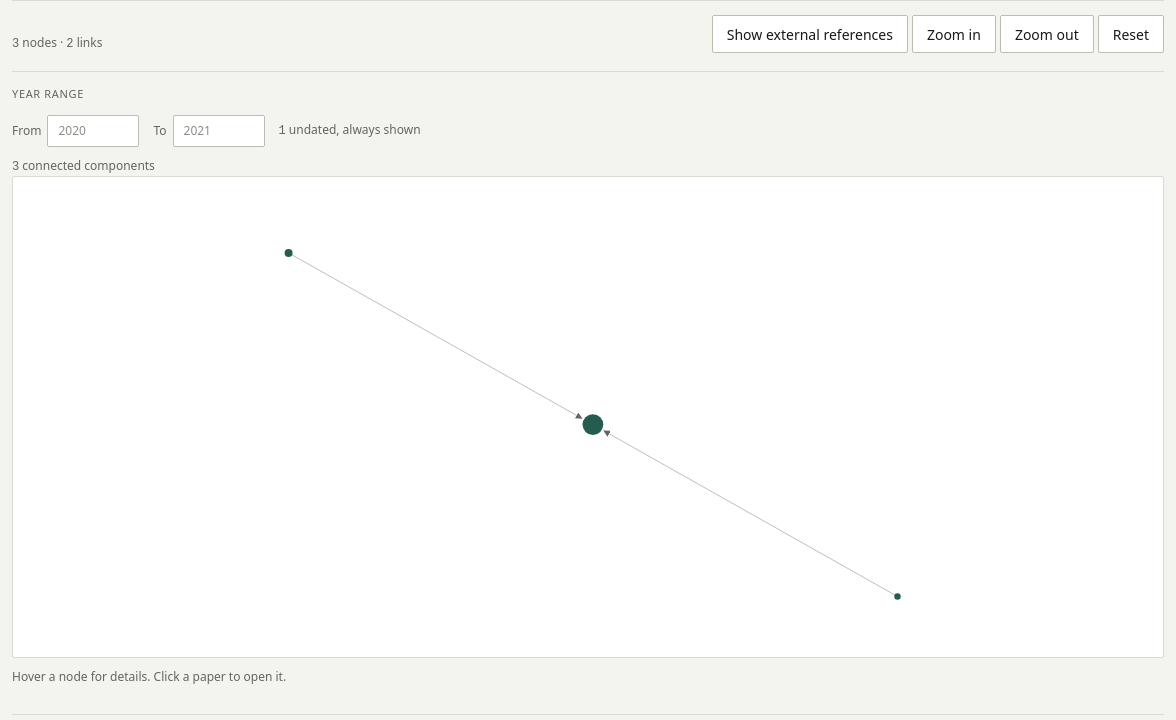
citation graph ranked views › filters by year, keeps undated nodes, and says so
Expected: the text "1 undated, always shown" is shown, [278,121,421,138]
In the number field labelled "From": (93, 130) [47,114,139,146], type "2021"
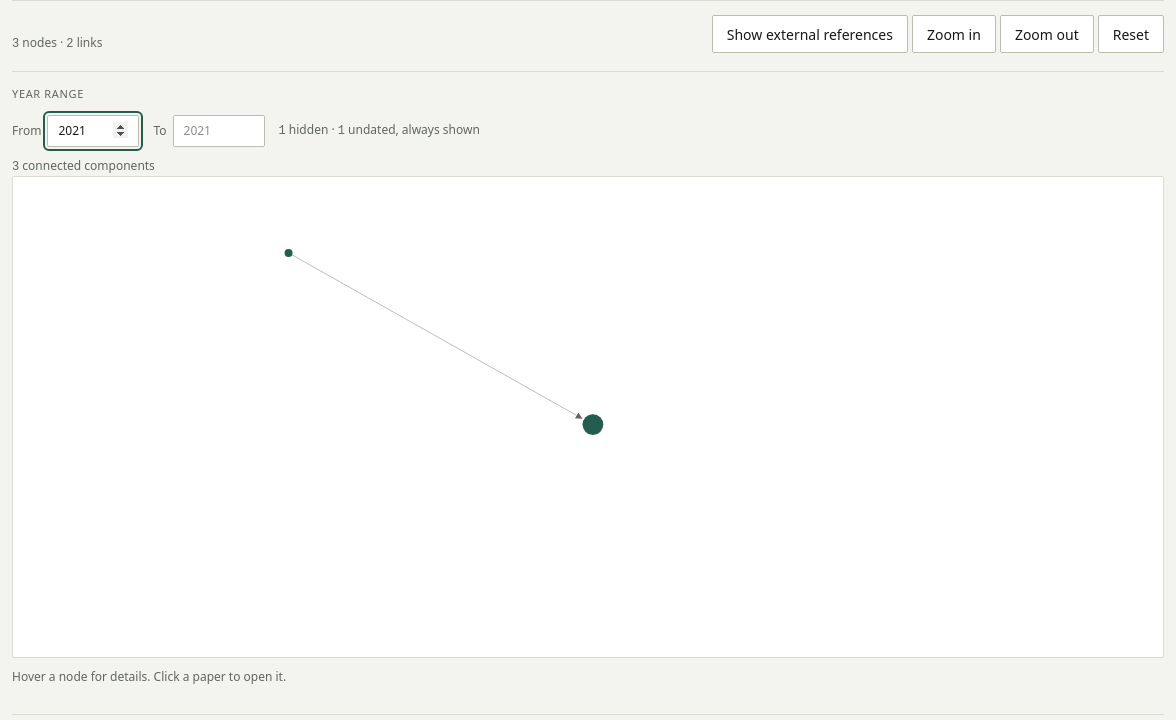
Expected: the text "1 hidden · 1 undated, always shown" is shown, [278,121,480,138]
